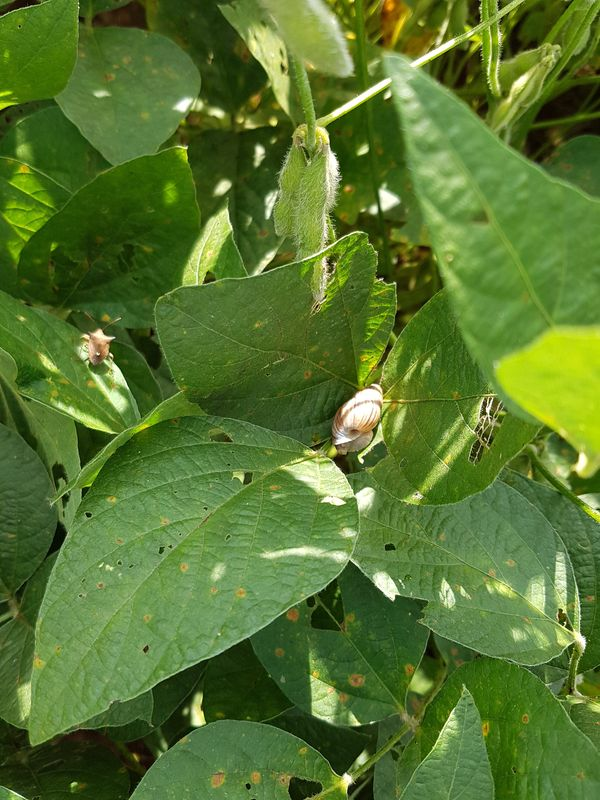Euschistus_heros_adulto: (73, 307, 121, 374)
Gastropoda: (319, 376, 397, 468)
